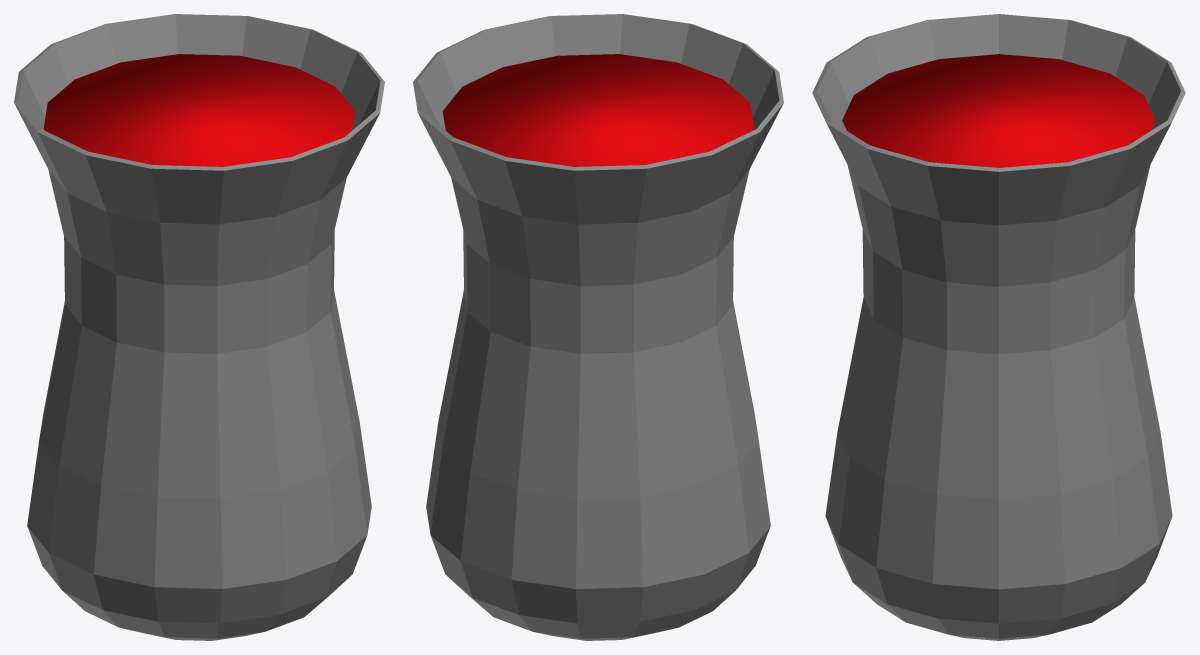
Rendered from TeaGlass(tea_normal).fbx.
3 views of the same model, side by side, from view 1: azimuth 30°, elevation 25°; view 2: azimuth 150°, elevation 25°; view 3: azimuth 270°, elevation 25° (orthographic).
Parts seen in each view (by area): view 1: TeaGlass, NormalTeaFull; view 2: TeaGlass, NormalTeaFull; view 3: TeaGlass, NormalTeaFull.
Boxes of the visible parts, x1=… form: TeaGlass: x1=14, y1=14, x2=384, y2=640; NormalTeaFull: x1=43, y1=54, x2=355, y2=166; TeaGlass: x1=413, y1=14, x2=783, y2=640; NormalTeaFull: x1=442, y1=54, x2=754, y2=166; TeaGlass: x1=812, y1=14, x2=1185, y2=640; NormalTeaFull: x1=842, y1=54, x2=1155, y2=167.
Size of the model in its own units: 37.07 by 55.99 by 37.07.
